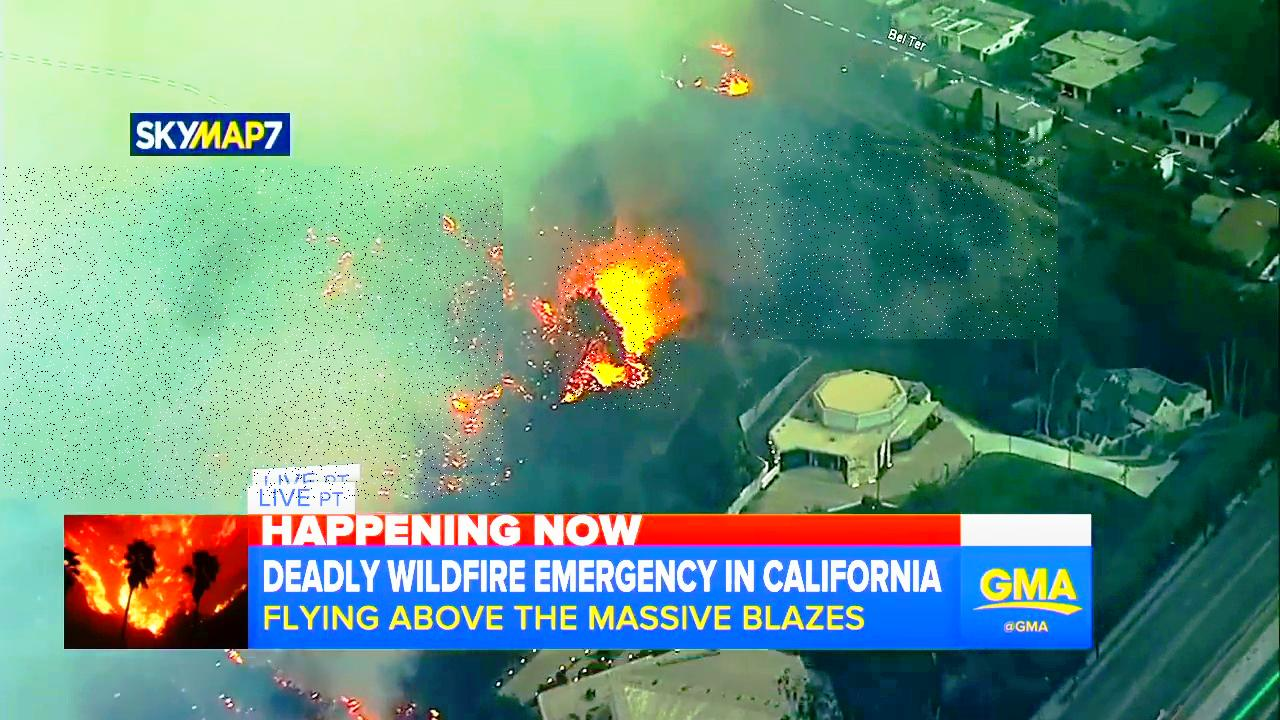fire: (558, 227, 680, 410), (722, 67, 747, 103)
smoke: (3, 166, 503, 499), (733, 132, 1058, 339)
